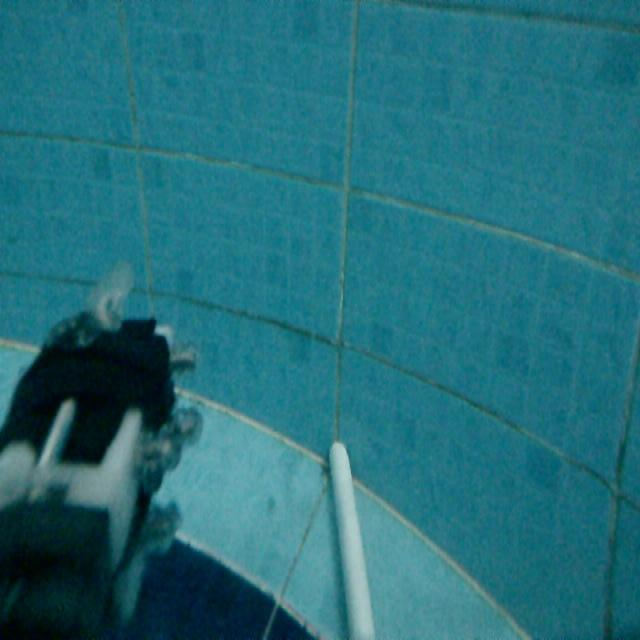Cube: (323, 434, 381, 638)
